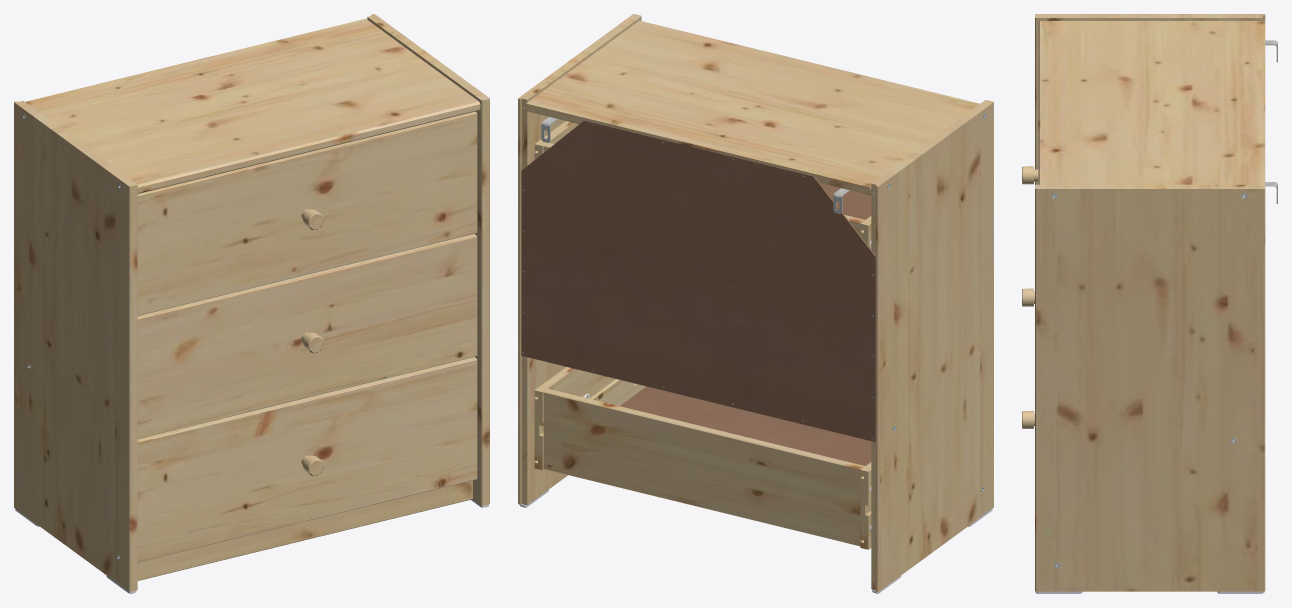
3 views of the same model, side by side, from view 1: azimuth 30°, elevation 25°; view 2: azimuth 150°, elevation 25°; view 3: azimuth 270°, elevation 25° (orthographic).
Visible parts, largest first — view 1: ASY_LPT01_70582165_S01_NV01 (×3), ASY_ART_70582165_S01_NV01; view 2: ASY_ART_70582165_S01_NV01, ASY_LPT01_70582165_S01_NV01 (×2); view 3: ASY_ART_70582165_S01_NV01.
Part boxes in pixels (left/top/right/bottom): ASY_LPT01_70582165_S01_NV01 (×3): left=137, top=111, right=477, bottom=561; ASY_ART_70582165_S01_NV01: left=14, top=14, right=489, bottom=593; ASY_ART_70582165_S01_NV01: left=518, top=14, right=993, bottom=593; ASY_LPT01_70582165_S01_NV01 (×2): left=534, top=121, right=871, bottom=549; ASY_ART_70582165_S01_NV01: left=1035, top=14, right=1277, bottom=593.
Size of the model in its own units: 0.6302 by 0.68 by 0.3884.
4 materials, 4 textured.
